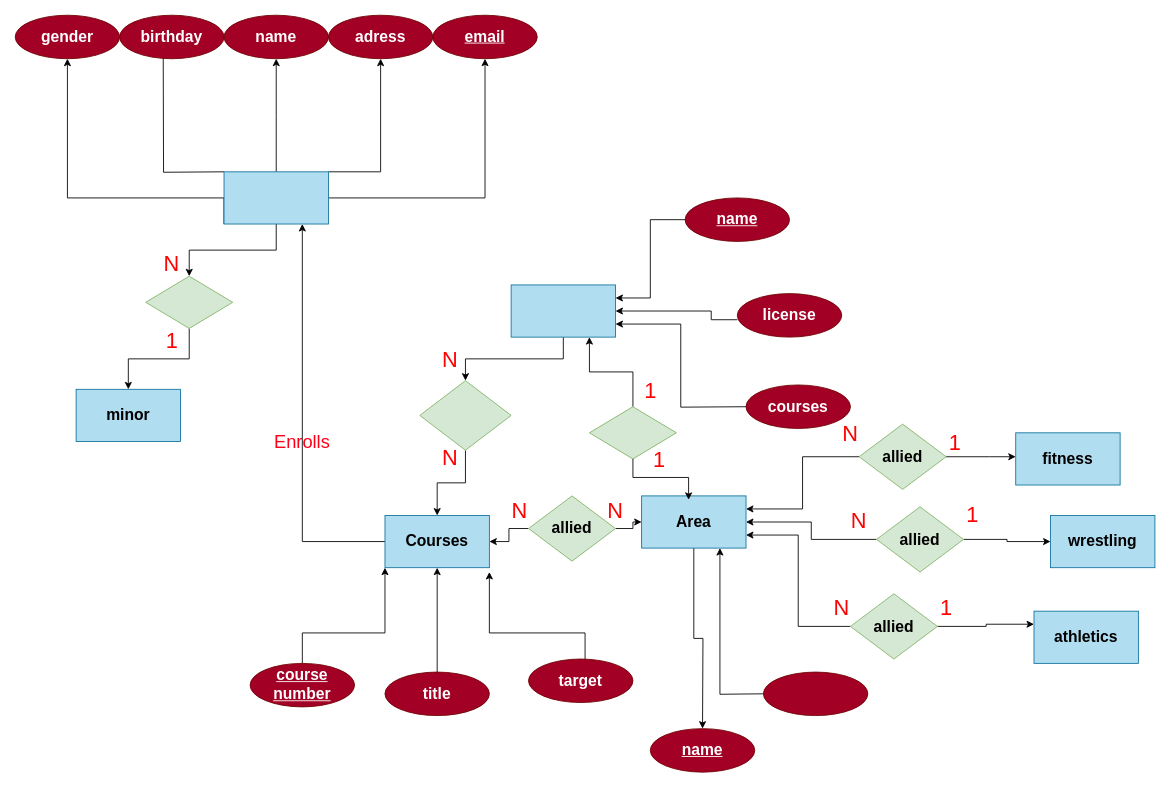
The diagram is 1170 pixels wide and 787 high, and some of its shapes have lost their labels. Each missing label, with the box of its shape:
description: (763, 671, 868, 716)
heads: (589, 406, 676, 459)
Member: (223, 171, 328, 224)
parent: (145, 275, 233, 328)
teaches: (419, 380, 511, 450)
trainer: (510, 284, 616, 337)
